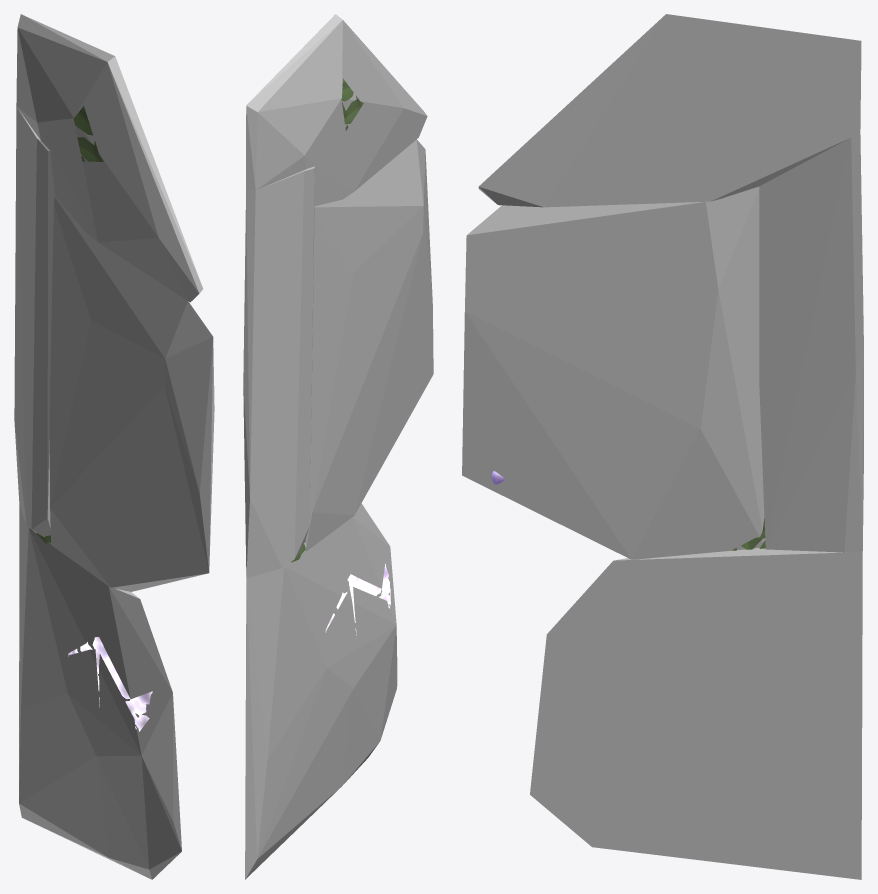
Rendered from SM_Env_Vines_Preset_Wall_01.fbx.
3 views of the same model, side by side, from view 1: azimuth 30°, elevation 25°; view 2: azimuth 150°, elevation 25°; view 3: azimuth 270°, elevation 25° (orthographic). The views are drawn at different scales.
Visible parts, largest first — view 1: SM_Env_Vines_Preset_Wall_01_ConvexHulls, SM_Env_Vines_Preset_Wall_01; view 2: SM_Env_Vines_Preset_Wall_01_ConvexHulls, SM_Env_Vines_Preset_Wall_01; view 3: SM_Env_Vines_Preset_Wall_01_ConvexHulls.
Boxes of the visible parts, <box> form: SM_Env_Vines_Preset_Wall_01_ConvexHulls: <box>14,14,214,879</box>; SM_Env_Vines_Preset_Wall_01: <box>36,106,152,731</box>; SM_Env_Vines_Preset_Wall_01_ConvexHulls: <box>243,14,433,879</box>; SM_Env_Vines_Preset_Wall_01: <box>291,78,390,635</box>; SM_Env_Vines_Preset_Wall_01_ConvexHulls: <box>462,14,863,879</box>.
Bounding box in the file's own units: 10.91 × 128 × 305.
3 materials, 2 textured.
